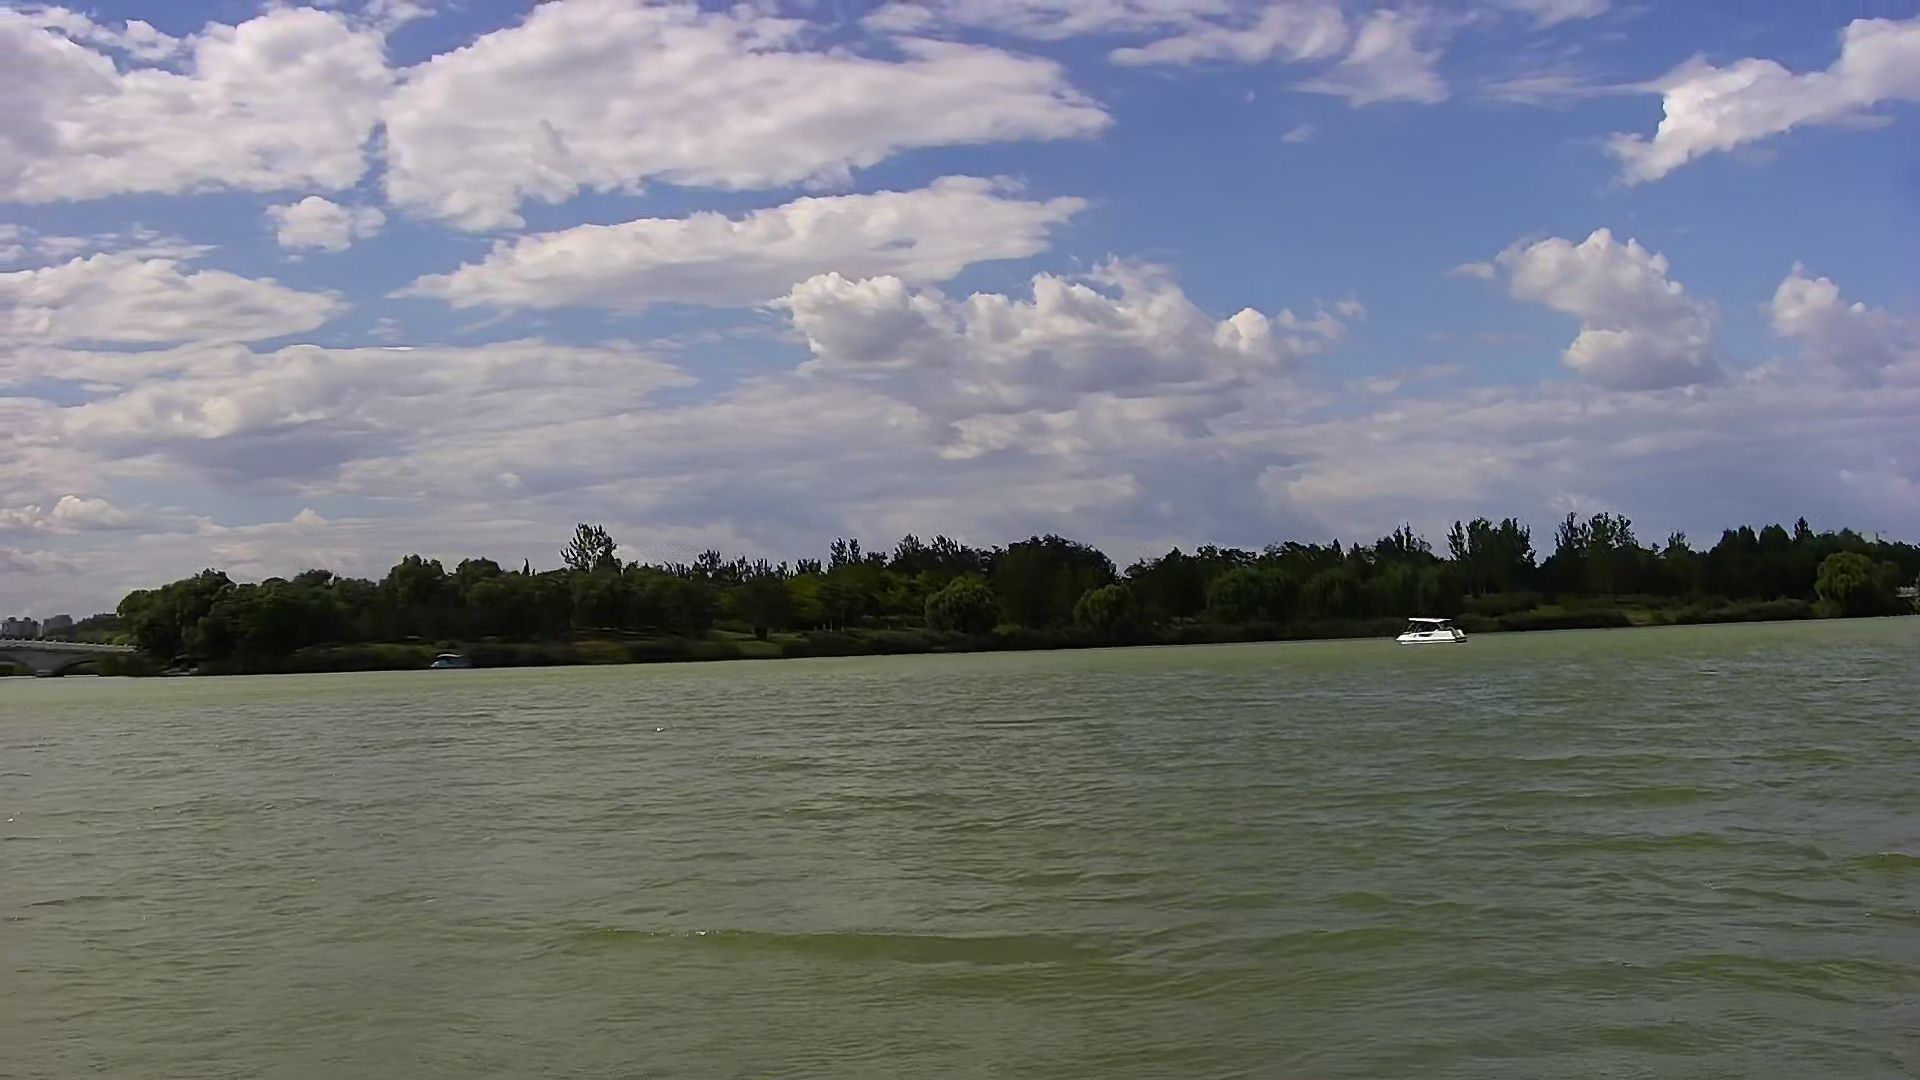boat: (1393, 615, 1472, 649), (426, 650, 483, 673)
bridge: (1, 632, 131, 675)
